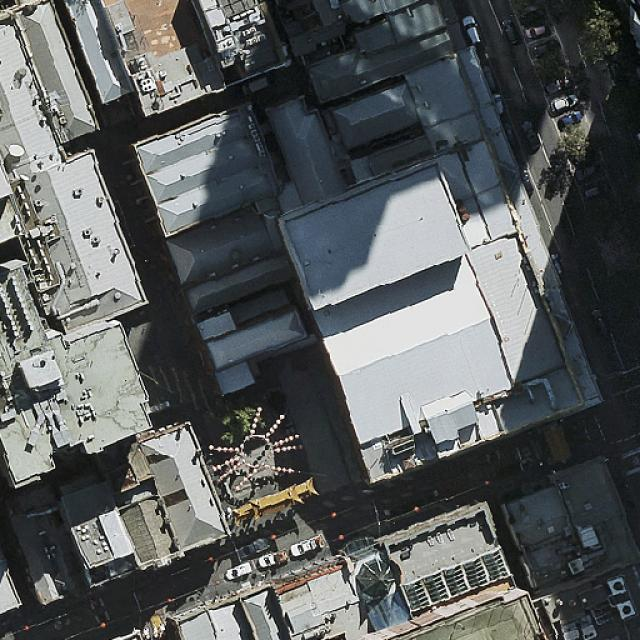Bike-Symbols: (631, 455, 640, 469)
